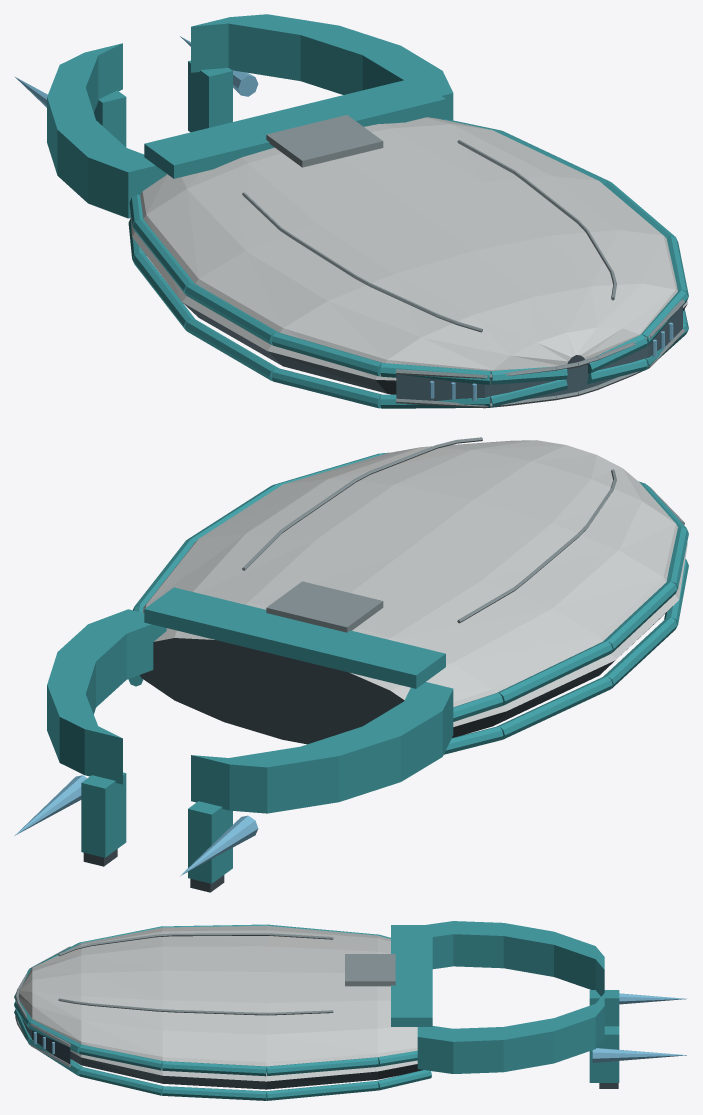
File: rayfam_teal_flight.glb
3 renders of one model, top to bottom at view 1: azimuth 30°, elevation 25°; view 2: azimuth 150°, elevation 25°; view 3: azimuth 270°, elevation 25°, orthographic. The views are drawn at different scales.
Visible parts, largest first — view 1: material_0, material_2, material_3, material_4, material_1, material_5; view 2: material_0, material_2, material_1, material_3, material_5; view 3: material_0, material_2, material_3, material_1, material_5, material_4.
Part boxes in pixels (bbox=[...]): material_0: bbox=[130, 117, 687, 380]; material_2: bbox=[47, 14, 688, 408]; material_3: bbox=[242, 115, 684, 408]; material_4: bbox=[396, 305, 682, 403]; material_1: bbox=[183, 303, 687, 394]; material_5: bbox=[14, 36, 673, 400]; material_0: bbox=[143, 440, 687, 726]; material_2: bbox=[47, 452, 688, 883]; material_1: bbox=[83, 606, 672, 892]; material_3: bbox=[242, 437, 684, 632]; material_5: bbox=[14, 775, 258, 875]; material_0: bbox=[19, 925, 417, 1081]; material_2: bbox=[14, 921, 619, 1100]; material_3: bbox=[15, 933, 395, 1067]; material_1: bbox=[70, 1051, 618, 1089]; material_5: bbox=[33, 993, 686, 1062]; material_4: bbox=[21, 1017, 70, 1063].
Size of the model in its own units: 17.71 by 5.57 by 34.17.
